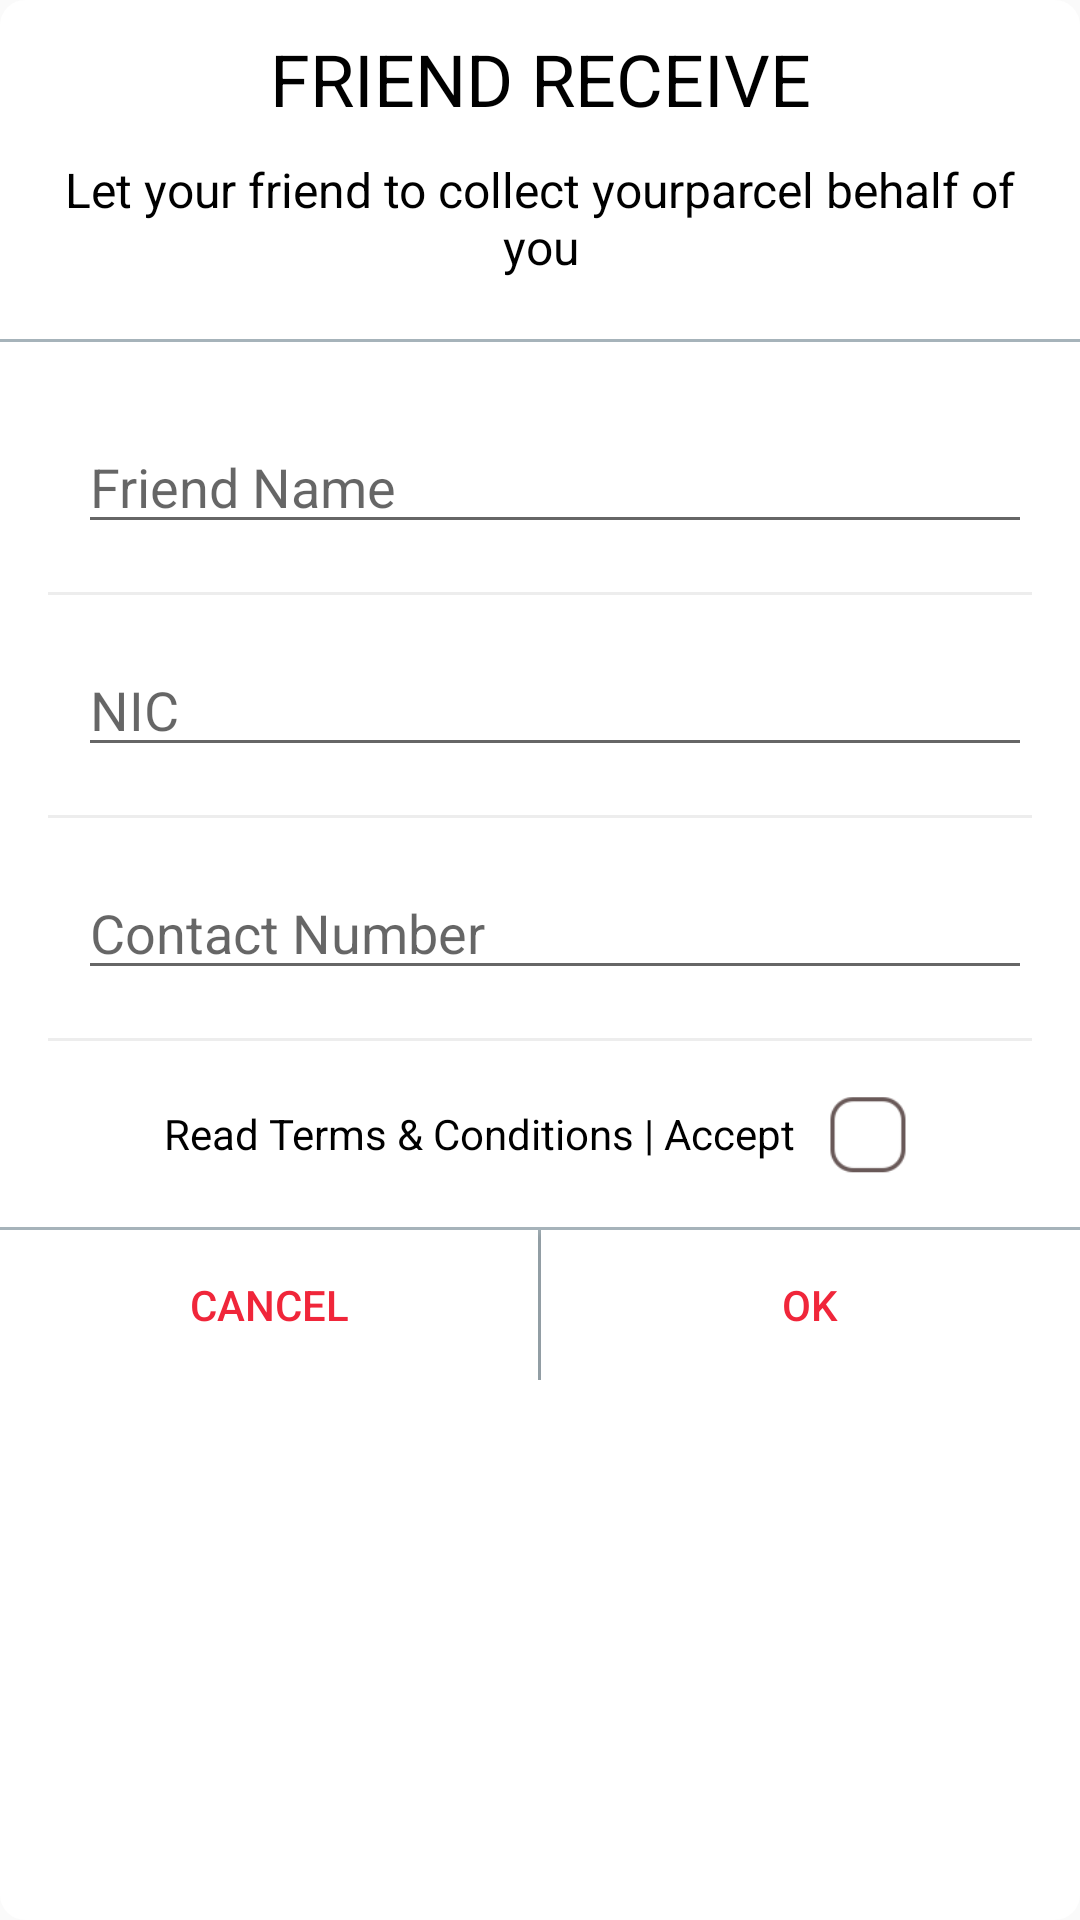

Screen size 1080 x 1920. Icon name, then its box in pixels as (x1, y1, x2, y2):
check box: (830, 1097, 906, 1173)
